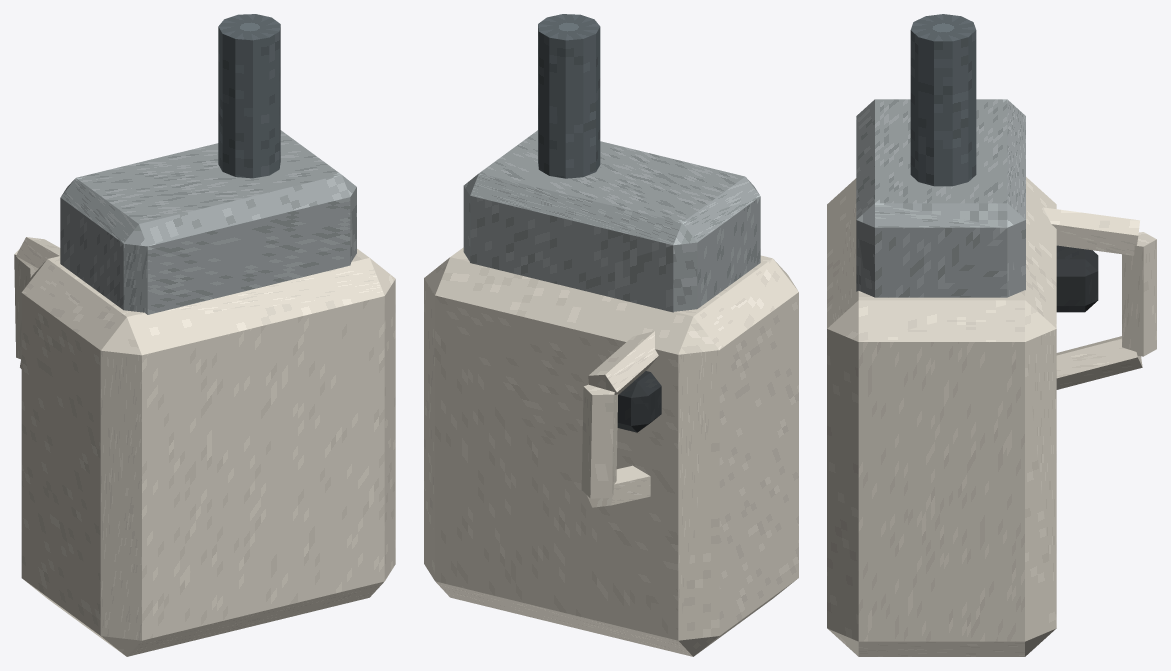
Rendered from ref_lighter_butane.glb.
3 views of the same model, side by side, from view 1: azimuth 30°, elevation 25°; view 2: azimuth 150°, elevation 25°; view 3: azimuth 270°, elevation 25° (orthographic). The views are drawn at different scales.
Visible parts, largest first — view 1: block_lighter body, block_metal lighter cover, block_slender lighter nose, block_trigger guard 0, block_trigger guard 1; view 2: block_lighter body, block_metal lighter cover, block_slender lighter nose, block_trigger guard 1, block_trigger guard 0, block_trigger, block_trigger guard 2; view 3: block_lighter body, block_metal lighter cover, block_slender lighter nose, block_trigger guard 1, block_trigger guard 0, block_trigger guard 2, block_trigger.
Boxes of the visible parts, x1,y1,x2,y2 form: block_lighter body: [21, 249, 395, 656]; block_metal lighter cover: [60, 130, 356, 314]; block_slender lighter nose: [218, 14, 280, 178]; block_trigger guard 0: [16, 237, 60, 273]; block_trigger guard 1: [14, 249, 33, 359]; block_lighter body: [424, 247, 798, 656]; block_metal lighter cover: [463, 130, 760, 312]; block_slender lighter nose: [538, 14, 600, 178]; block_trigger guard 1: [581, 384, 617, 498]; block_trigger guard 0: [588, 331, 658, 394]; block_trigger: [617, 371, 661, 432]; block_trigger guard 2: [587, 465, 650, 507]; block_lighter body: [827, 177, 1056, 656]; block_metal lighter cover: [856, 99, 1025, 297]; block_slender lighter nose: [910, 14, 976, 186]; block_trigger guard 1: [1122, 232, 1156, 356]; block_trigger guard 0: [1043, 207, 1139, 255]; block_trigger guard 2: [1056, 336, 1142, 389]; block_trigger: [1056, 245, 1098, 312].
Size of the model in its own units: 0.0826 by 0.15 by 0.0762.
Materials: 1 (1 with a texture image).
